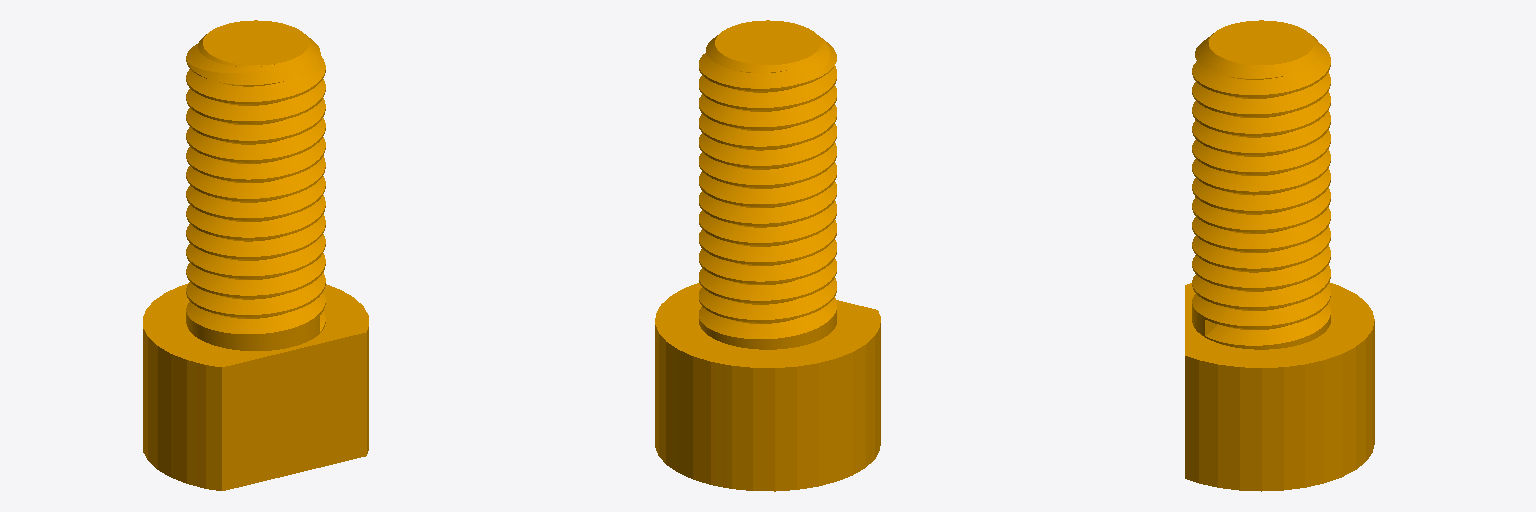
robot.urdf — bolt5:
<?xml version="1.0"?>
<robot name="bolt5">
    <link name="bolt5">
        <visual>
            <geometry>
                <mesh filename="../mesh/bolt/bolt5.obj"/>
            </geometry>
        </visual>
        <collision>
            <geometry>
                <mesh filename="../mesh/bolt/bolt5.obj"/>
            </geometry>
            <sdf resolution="512"/>
        </collision>
    </link>
</robot>

--- Facts derived from the render (not from the file) ---
Views: 3 orthographic renders of the robot side by side, from view 1: azimuth 30°, elevation 25°; view 2: azimuth 150°, elevation 25°; view 3: azimuth 270°, elevation 25°.
Model bolt5 with 1 links and 0 joints (none), rooted at bolt5, posed all joints at 0.
Visible links, largest first — view 1: bolt5; view 2: bolt5; view 3: bolt5.
Boxes of the visible links, left/top/right/bottom form: bolt5: left=143, top=20, right=368, bottom=490; bolt5: left=655, top=20, right=880, bottom=491; bolt5: left=1185, top=20, right=1374, bottom=491.
Size in the robot's own frame: 0.044 by 0.0368 by 0.086 metres.
1 mesh visuals loaded from 1 distinct referenced files (1 OBJ).
